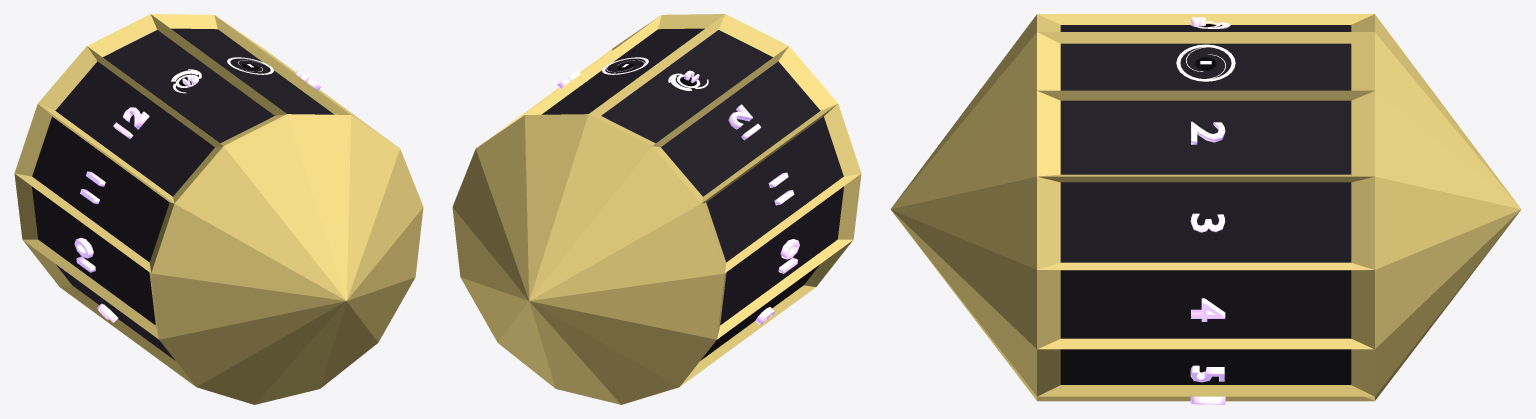
Rendered from d13_black_hole_gold.glb.
3 views of the same model, side by side, from view 1: azimuth 30°, elevation 25°; view 2: azimuth 150°, elevation 25°; view 3: azimuth 270°, elevation 25° (orthographic). The views are drawn at different scales.
Parts seen in each view (by area): view 1: D13_BlackHole_Gold; view 2: D13_BlackHole_Gold; view 3: D13_BlackHole_Gold.
Part boxes in pixels (left/top/right/bottom): D13_BlackHole_Gold: left=14, top=14, right=423, bottom=404; D13_BlackHole_Gold: left=452, top=14, right=861, bottom=404; D13_BlackHole_Gold: left=890, top=14, right=1521, bottom=404.
Size of the model in its own units: 4.41 by 4.4 by 7.1.
